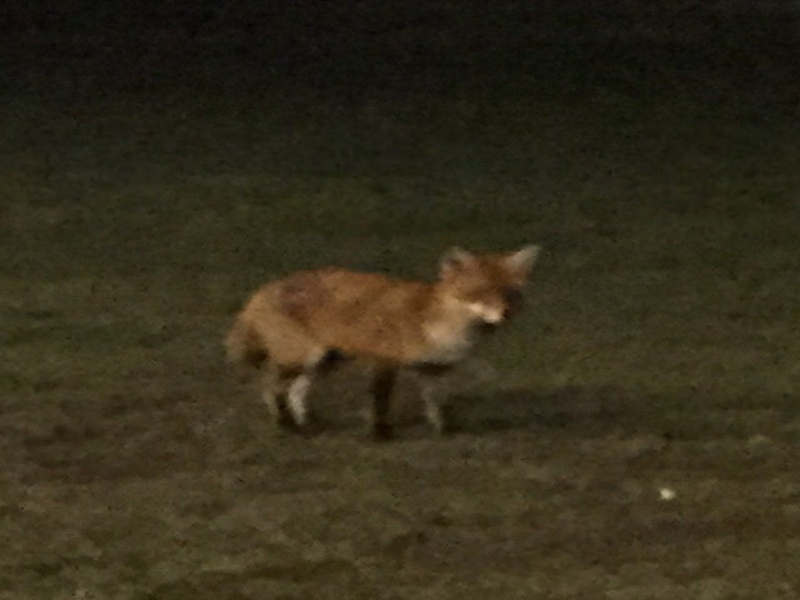fox: (220, 243, 551, 447)
